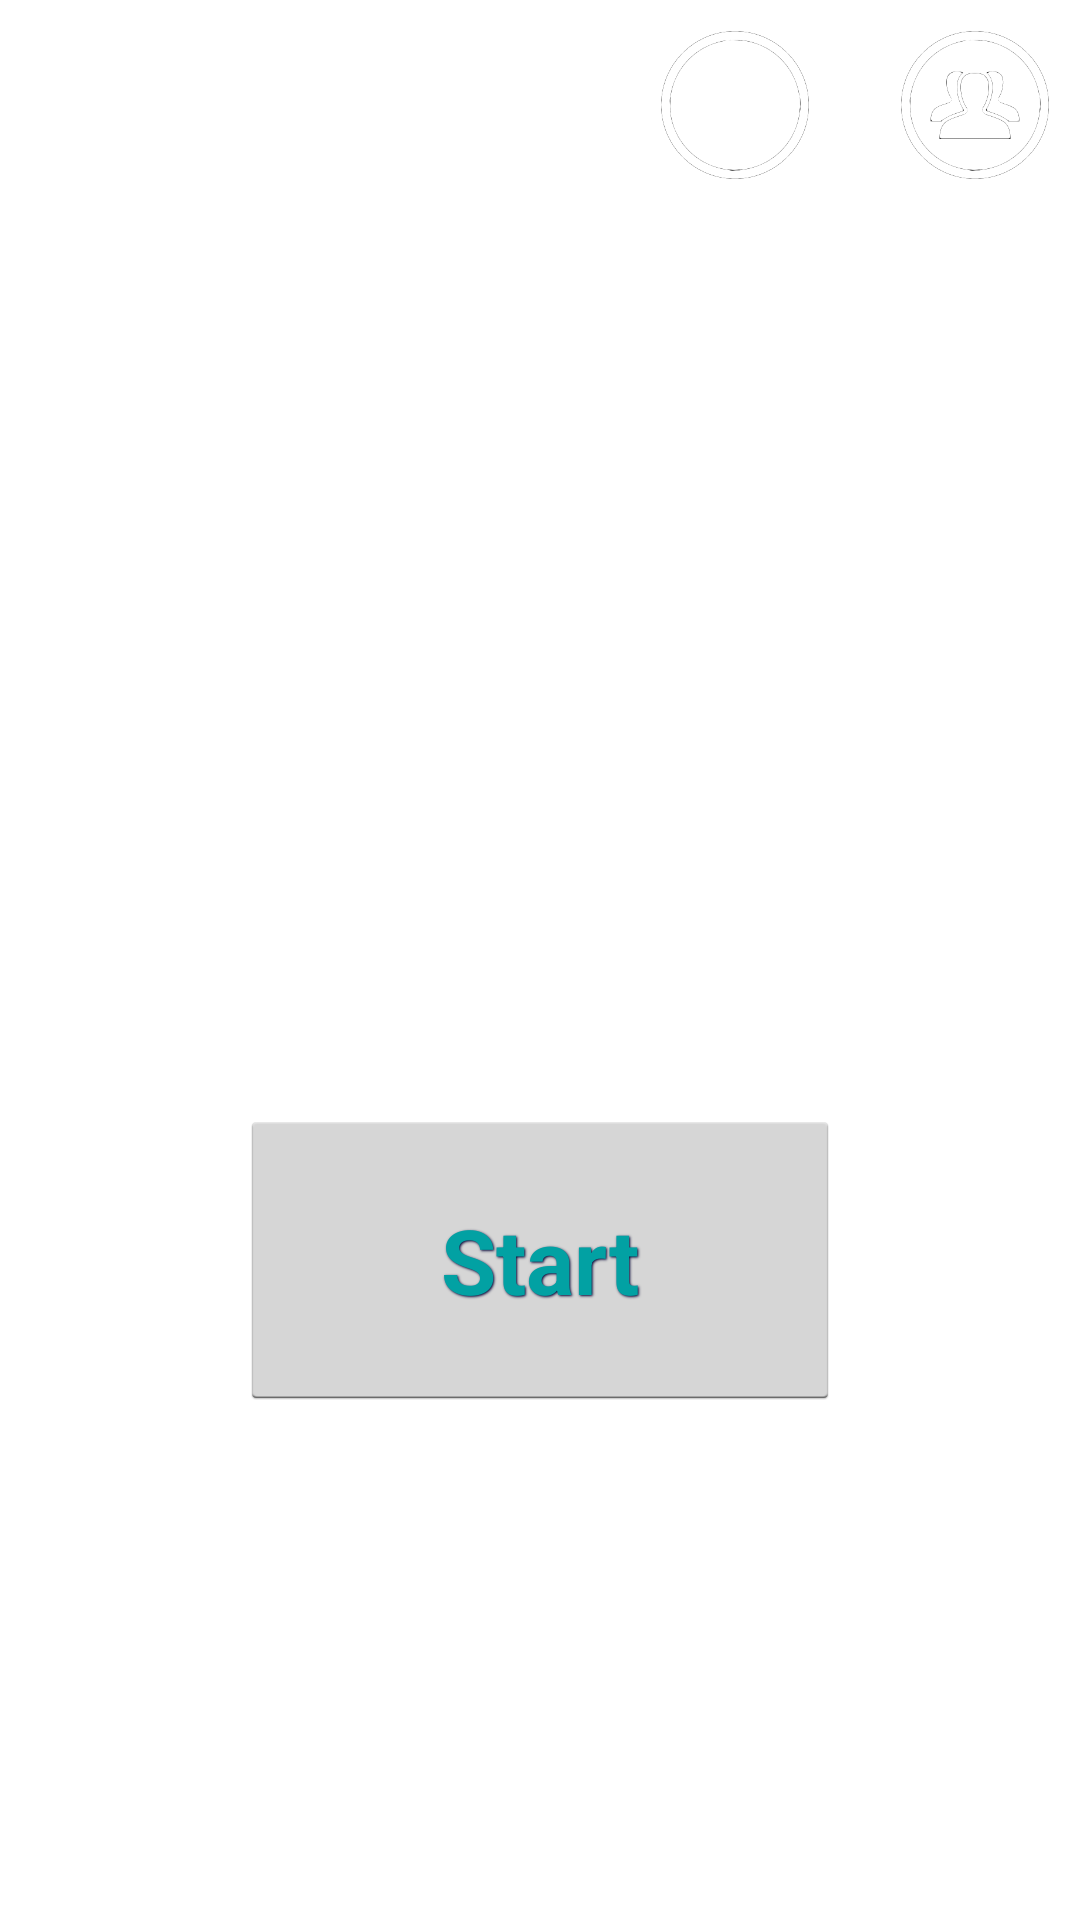

Screen size 1080*1920. Icon name, then its center in pixels as [x,y]:
audience: [975,105]
